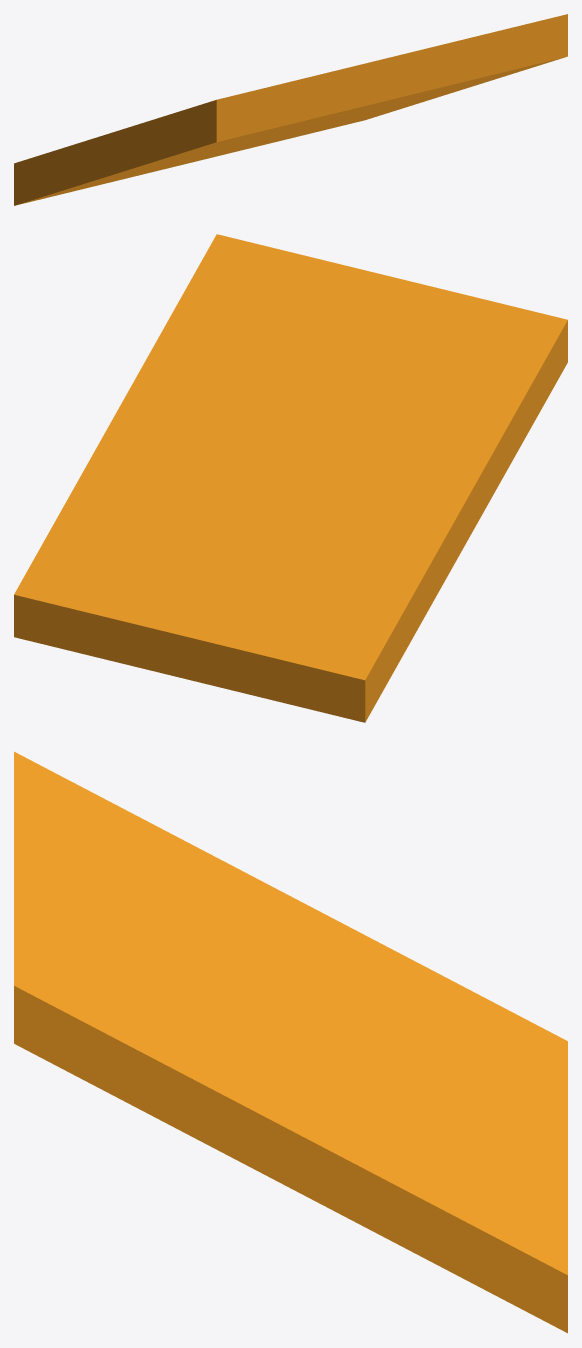
File: SM_Buildings_RoofAngled_1x1_01.fbx
3 views of the same model, one above another, from view 1: azimuth 30°, elevation 25°; view 2: azimuth 150°, elevation 25°; view 3: azimuth 270°, elevation 25° (orthographic). The views are drawn at different scales.
Visible parts, largest first — view 1: SM_Buildings_RoofAngled_1x1_01; view 2: SM_Buildings_RoofAngled_1x1_01; view 3: SM_Buildings_RoofAngled_1x1_01.
Part boxes in pixels (bbox=[...]): SM_Buildings_RoofAngled_1x1_01: bbox=[14, 14, 567, 205]; SM_Buildings_RoofAngled_1x1_01: bbox=[14, 234, 567, 722]; SM_Buildings_RoofAngled_1x1_01: bbox=[14, 751, 567, 1333].
Size of the model in its own units: 100 by 69.29 by 100.
